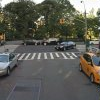crosswalk: (16, 51, 77, 61)
